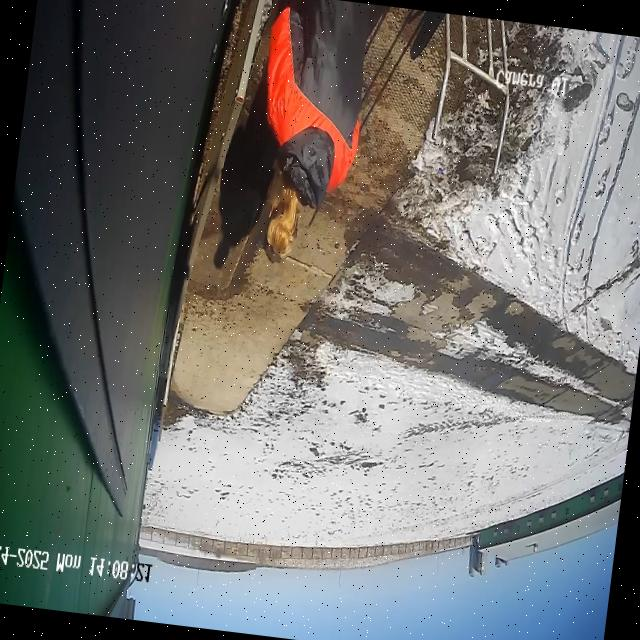Red uniform: (267, 0, 372, 208)
